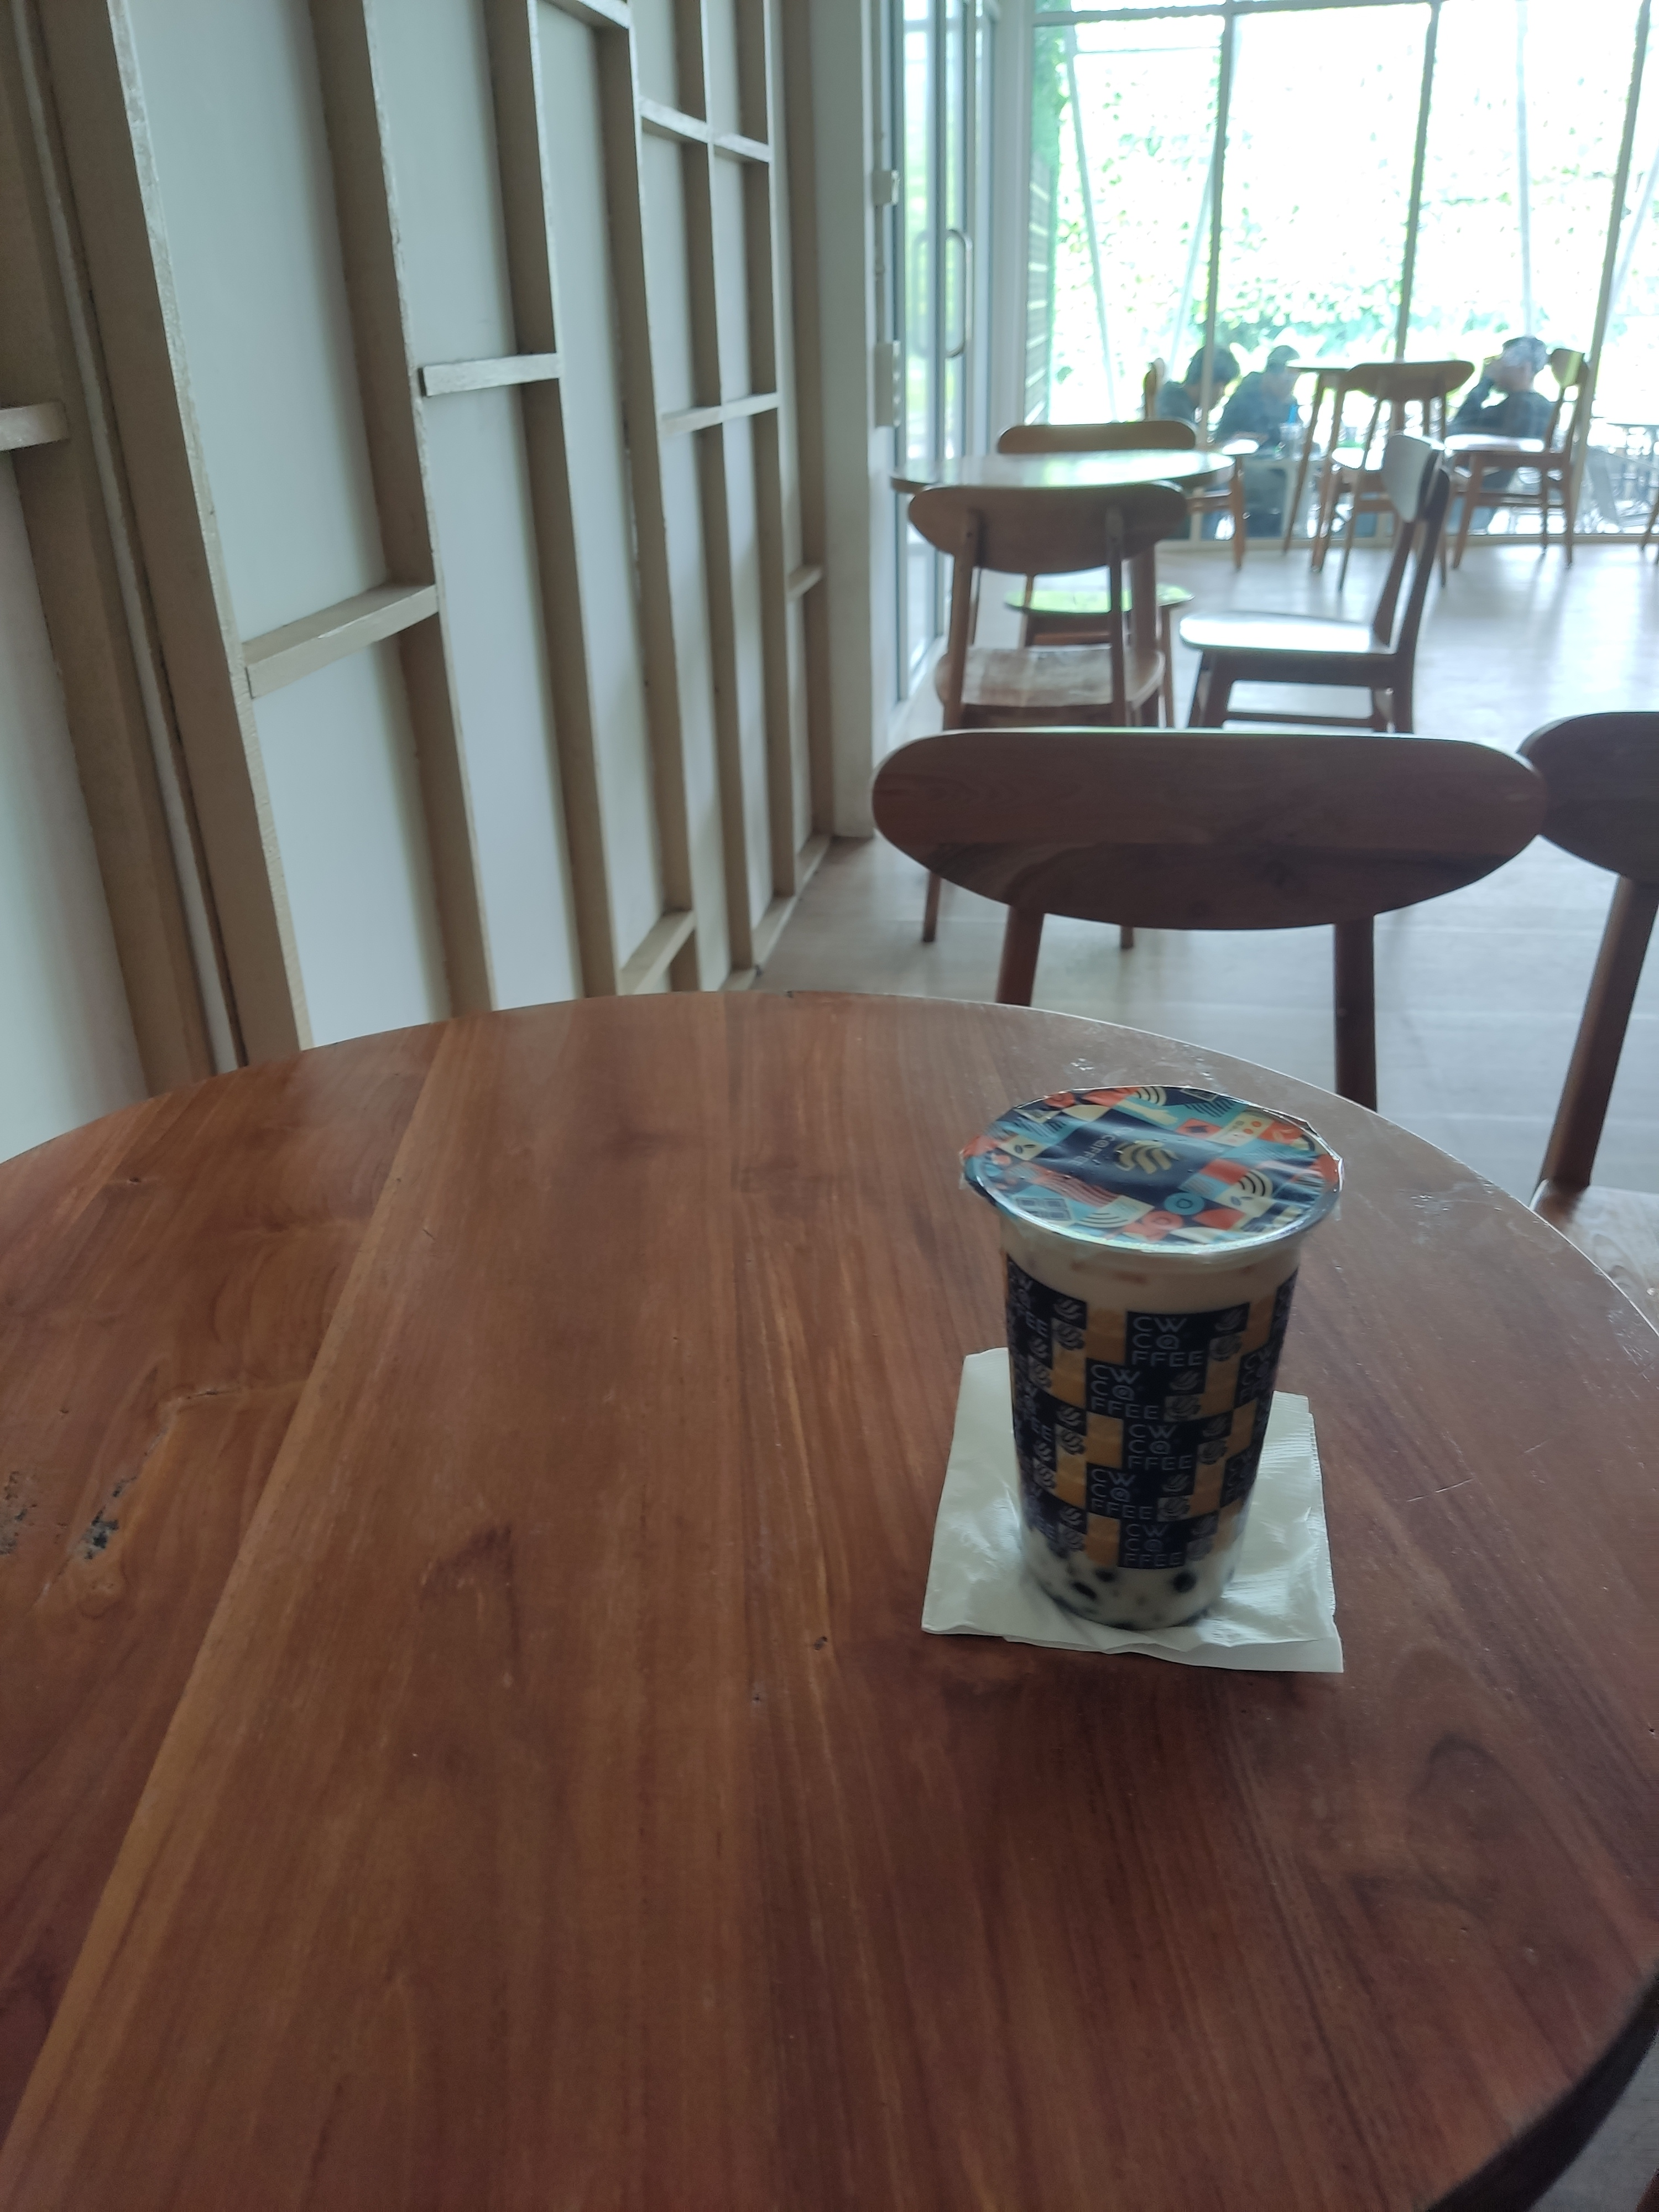Gelas CW: (955, 1090, 1344, 1629)
